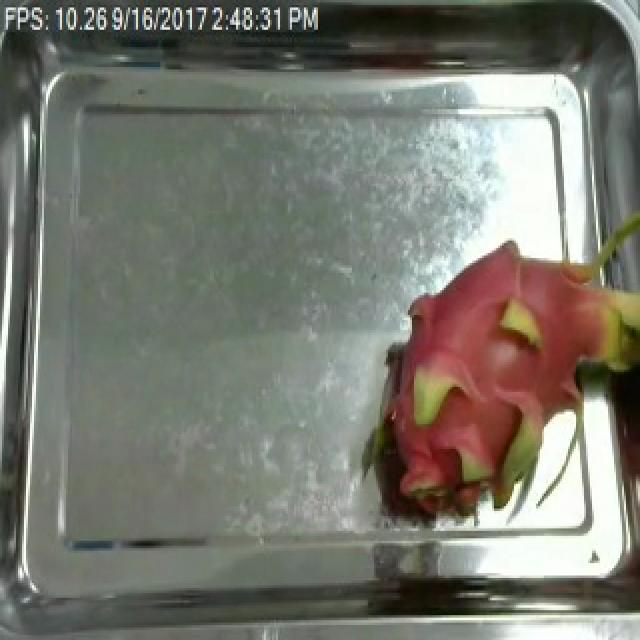fruit: (364, 218, 640, 541)
